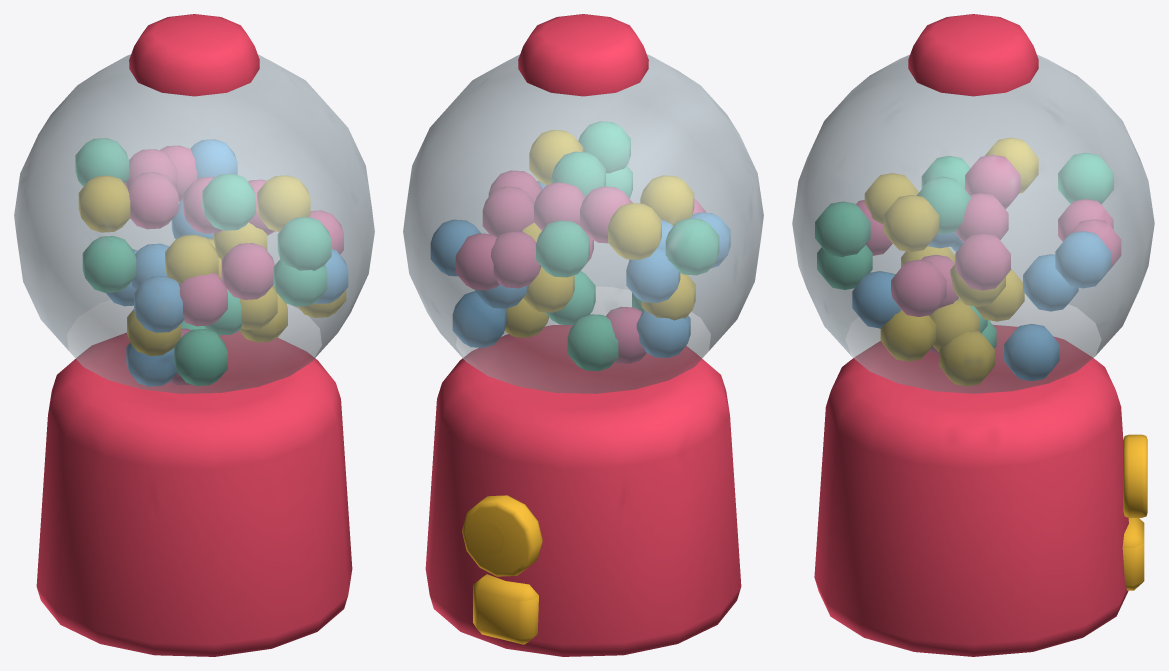
Rendered from GumballMachine.glb.
3 views of the same model, side by side, from view 1: azimuth 30°, elevation 25°; view 2: azimuth 150°, elevation 25°; view 3: azimuth 270°, elevation 25° (orthographic).
Visible parts, largest first — view 1: Globe, Base, BallsC, BallsB, BallsA, BallsD; view 2: Globe, Base, BallsC, BallsA, BallsB, BallsD, Knob; view 3: Globe, Base, BallsB, BallsA, BallsC, BallsD, Knob.
Part boxes in pixels (x1,y1,x2,y2): Globe: [14, 54, 374, 393]; Base: [36, 14, 352, 656]; BallsC: [75, 138, 331, 385]; BallsB: [79, 175, 345, 355]; BallsA: [124, 145, 343, 384]; BallsD: [106, 139, 347, 386]; Globe: [403, 54, 763, 393]; Base: [425, 14, 741, 656]; BallsC: [536, 121, 718, 370]; BallsA: [456, 170, 705, 363]; BallsB: [505, 130, 695, 337]; BallsD: [431, 181, 730, 357]; Knob: [462, 495, 542, 644]; Globe: [792, 54, 1154, 393]; Base: [814, 14, 1128, 656]; BallsB: [865, 138, 1038, 386]; BallsA: [856, 155, 1120, 353]; BallsC: [815, 153, 1113, 348]; BallsD: [852, 231, 1110, 380]; Knob: [1122, 434, 1147, 590].
Bounding box in the file's own units: 5.2 × 9 × 5.2.
7 materials, 7 textured.
